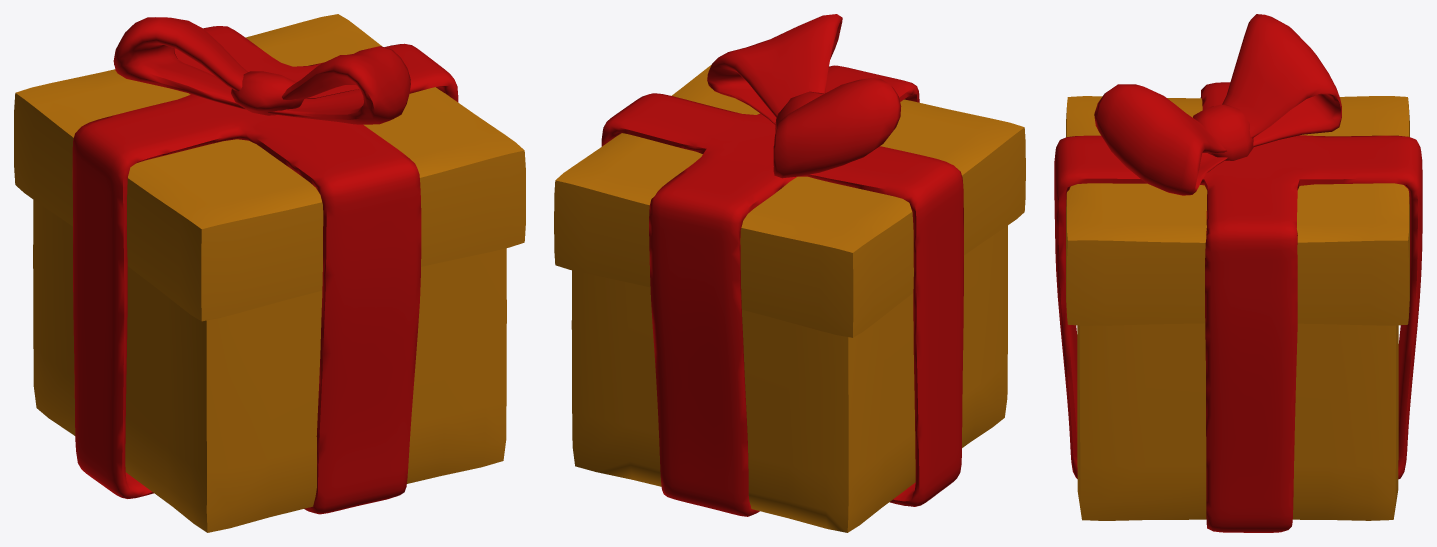
File: present.FBX
3 views of the same model, side by side, from view 1: azimuth 30°, elevation 25°; view 2: azimuth 150°, elevation 25°; view 3: azimuth 270°, elevation 25° (orthographic). The views are drawn at different scales.
Visible parts, largest first — view 1: Present3, present5, Present4, Present2, Present; view 2: Present3, present5, Present4, Present2; view 3: Present3, present5, Present4, Present2, Present.
Part boxes in pixels (x1,y1,x2,y2): Present3: (72, 26, 458, 514); present5: (33, 200, 506, 532); Present4: (14, 14, 525, 321); Present2: (113, 17, 410, 124); Present: (231, 71, 303, 115); Present3: (601, 65, 963, 516); present5: (571, 225, 1007, 532); Present4: (554, 65, 1025, 337); Present2: (707, 14, 901, 178); Present3: (1054, 82, 1422, 532); present5: (1077, 323, 1398, 520); Present4: (1066, 96, 1409, 325); Present2: (1094, 14, 1341, 195); Present: (1193, 104, 1253, 160).
Size of the model in its own units: 33.35 by 40.88 by 33.59.
